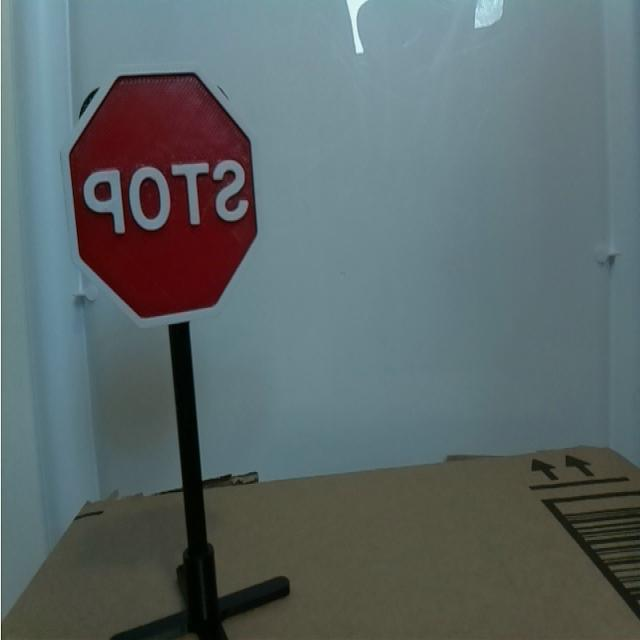sign_stop: (63, 67, 277, 339)
